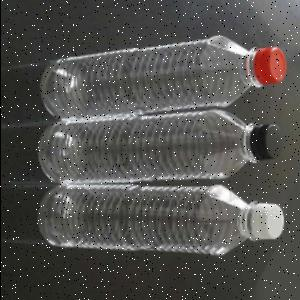Plastic-bottle: (37, 33, 289, 119), (37, 110, 285, 186), (36, 184, 286, 258)
